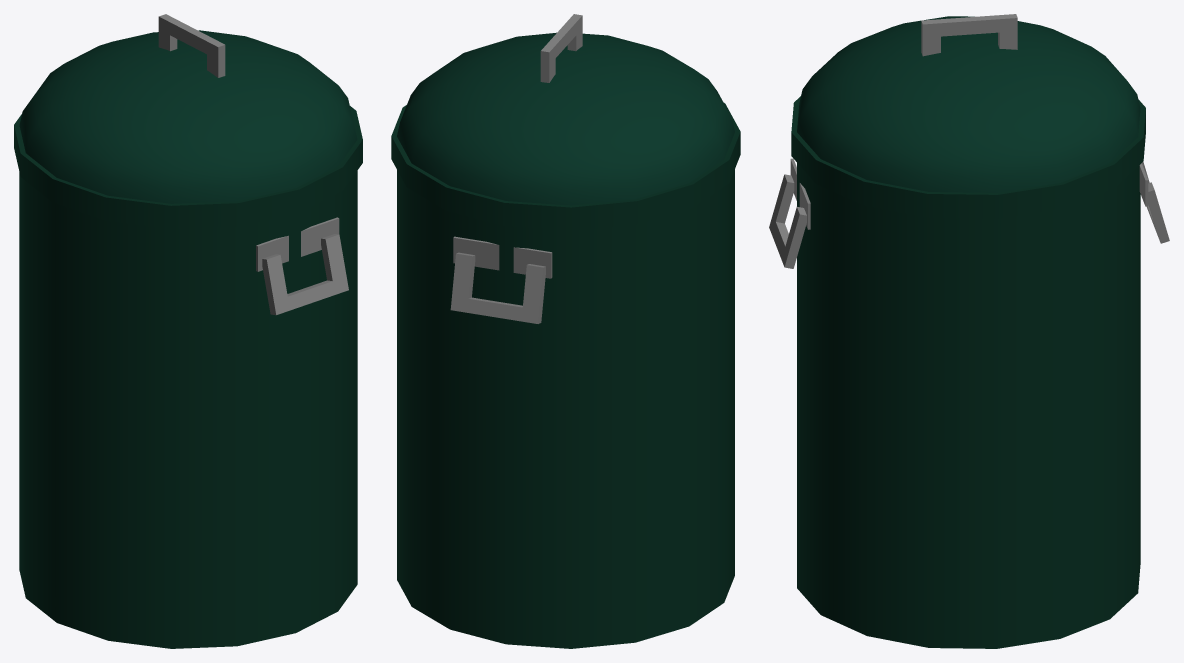
File: Dustbin .fbx
3 renders of one model, left to right at view 1: azimuth 30°, elevation 25°; view 2: azimuth 150°, elevation 25°; view 3: azimuth 270°, elevation 25°, orthographic. The views are drawn at different scales.
Parts seen in each view (by area): view 1: Cylinder; view 2: Cylinder; view 3: Cylinder.
Part boxes in pixels (box(x1,y1,x2,y2)): Cylinder: box(14, 14, 362, 648); Cylinder: box(391, 14, 740, 648); Cylinder: box(769, 14, 1169, 648).
Bounding box in the file's own units: 0.6635 × 1.15 × 0.7499.
